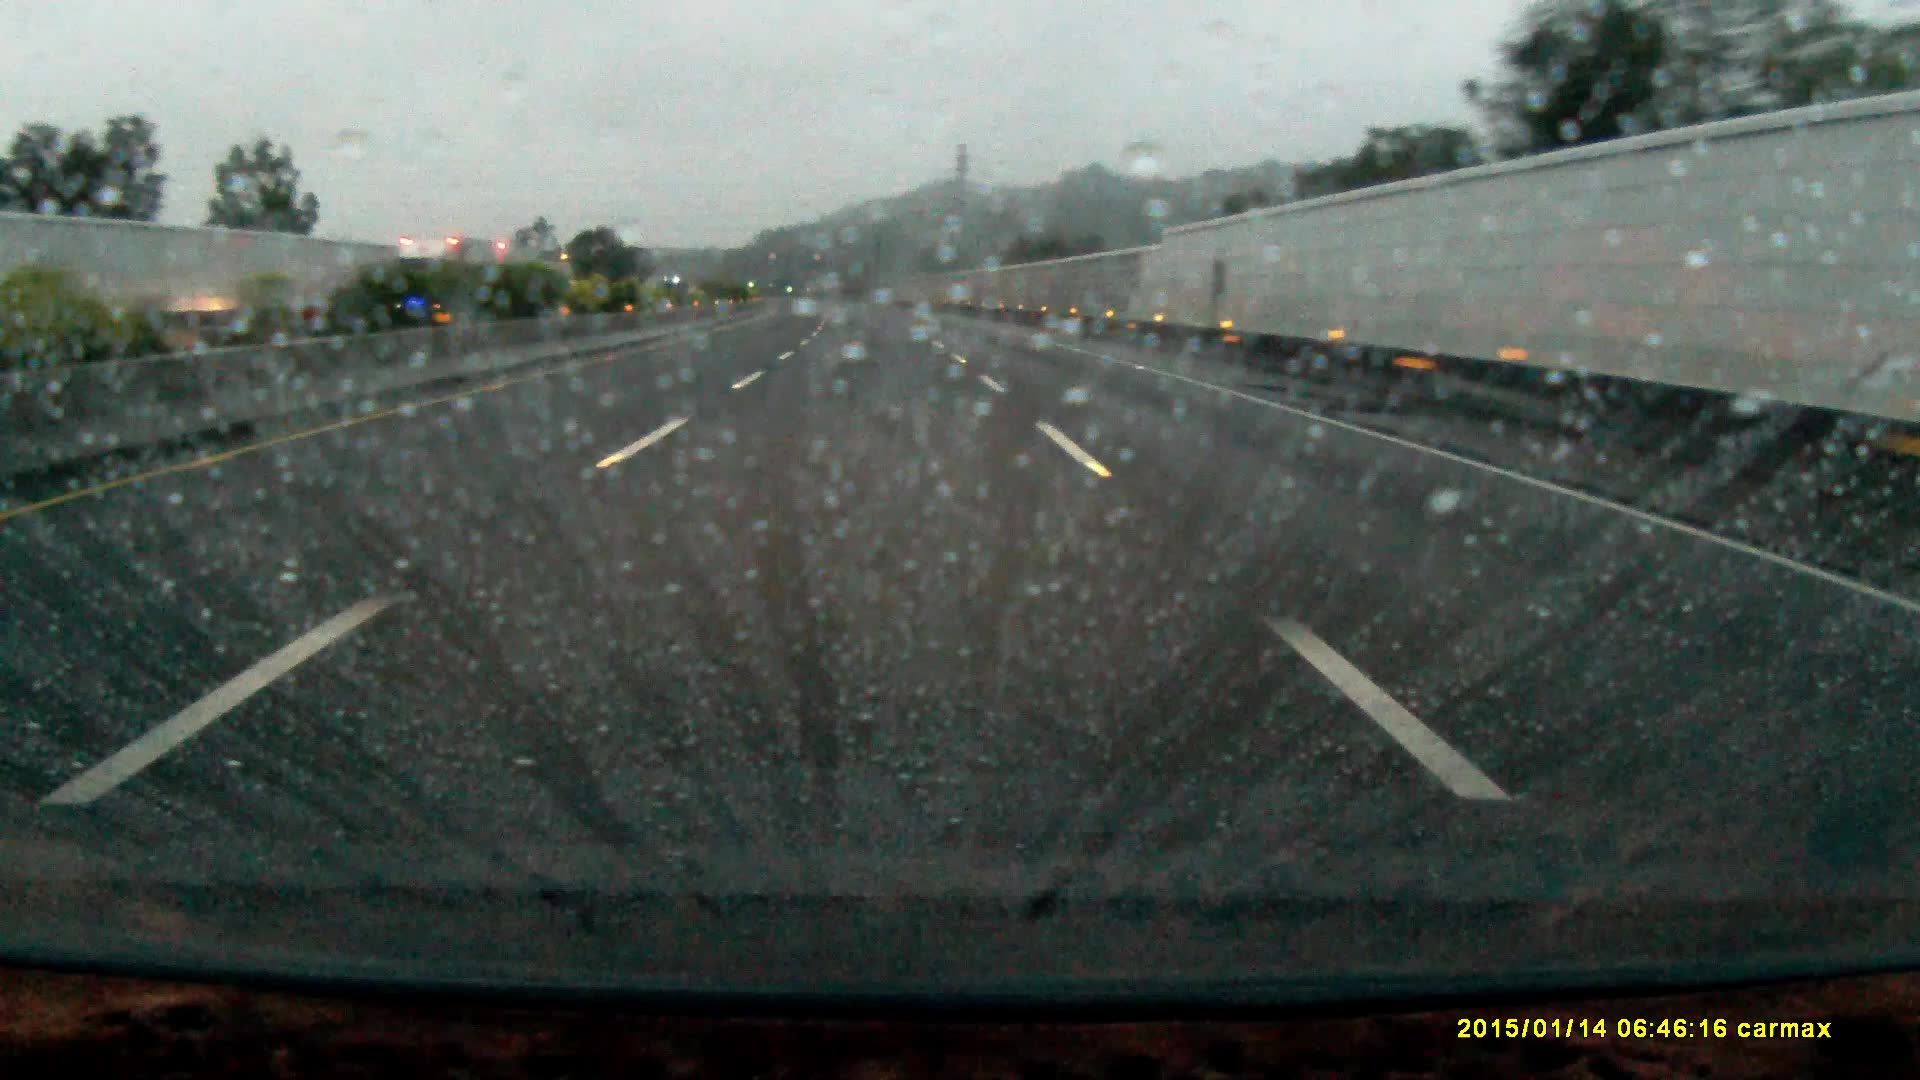vehicle: (382, 236, 531, 320)
